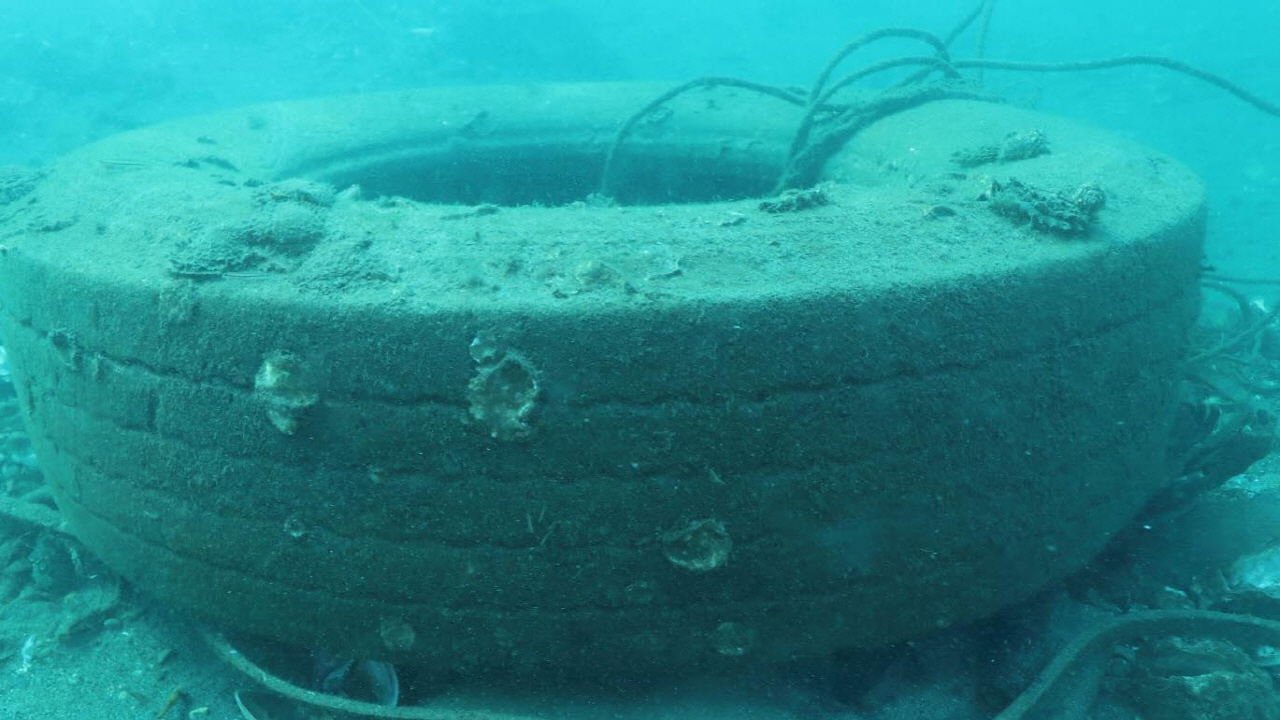bundle of ropes: (596, 0, 1280, 198)
tire: (0, 76, 1215, 674)
